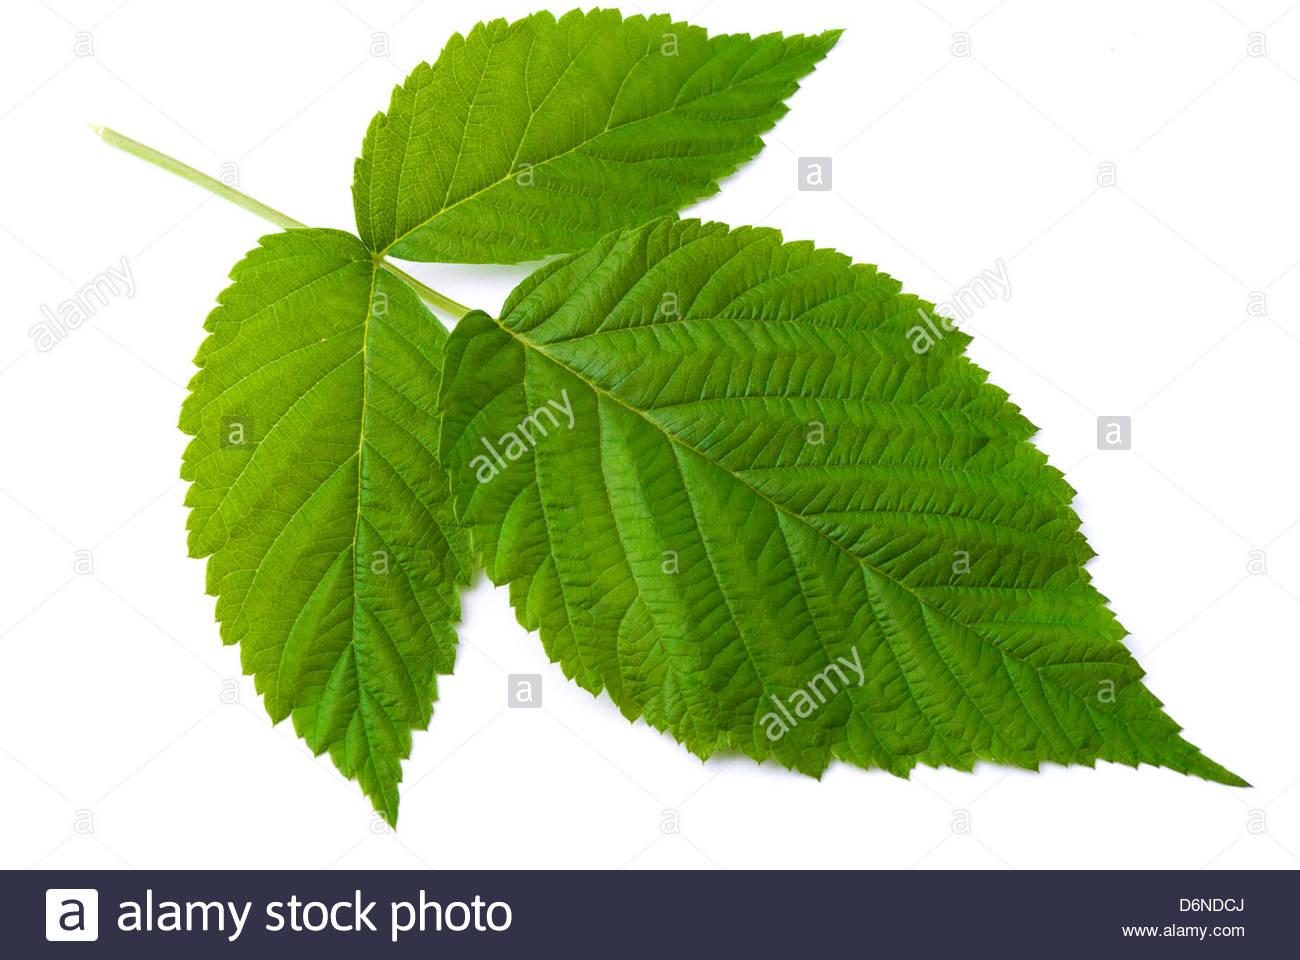Raspberry leaf: (423, 211, 1259, 799), (172, 214, 483, 832), (344, 3, 850, 260)
